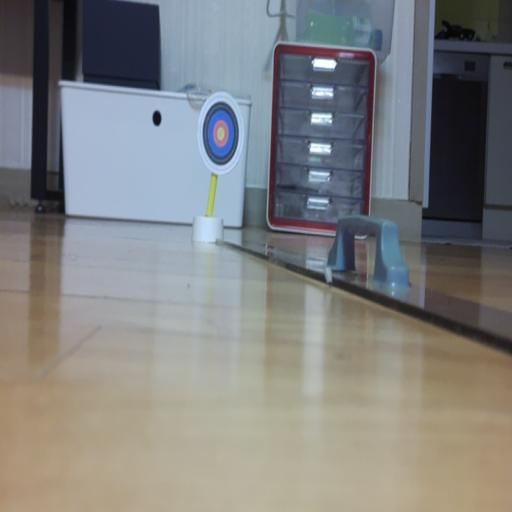target: (198, 92, 244, 175)
